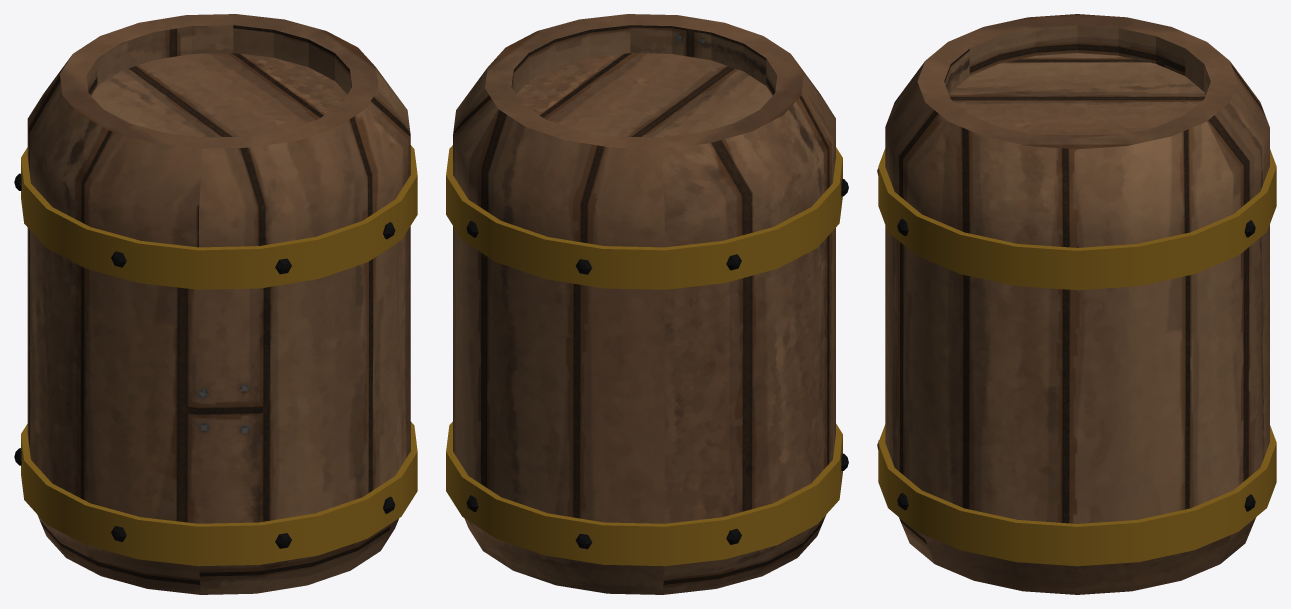
File: barrel_cowgame.fbx
3 renders of one model, left to right at view 1: azimuth 30°, elevation 25°; view 2: azimuth 150°, elevation 25°; view 3: azimuth 270°, elevation 25°, orthographic.
Visible parts, largest first — view 1: pSphere21; view 2: pSphere21; view 3: pSphere21.
Part boxes in pixels (left/top/right/bottom): pSphere21: left=14, top=14, right=417, bottom=594; pSphere21: left=446, top=14, right=848, bottom=594; pSphere21: left=877, top=14, right=1276, bottom=594.
Bounding box in the file's own units: 0.0466 × 0.0566 × 0.0467.
